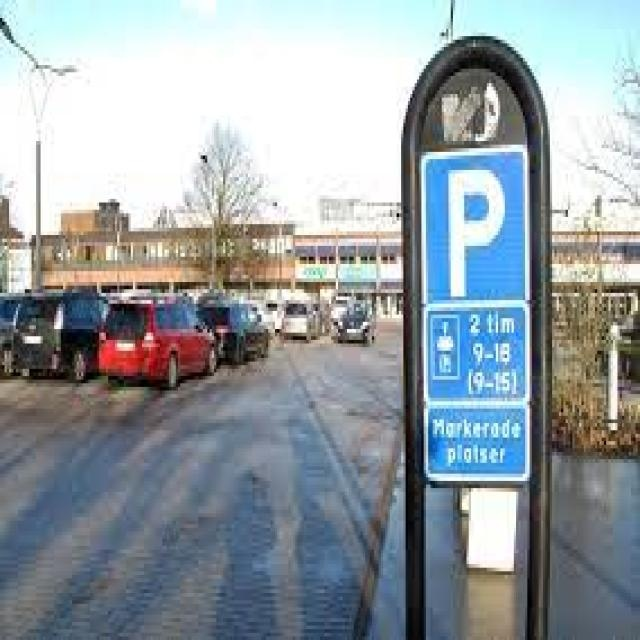P-skylt: (415, 148, 533, 306)
